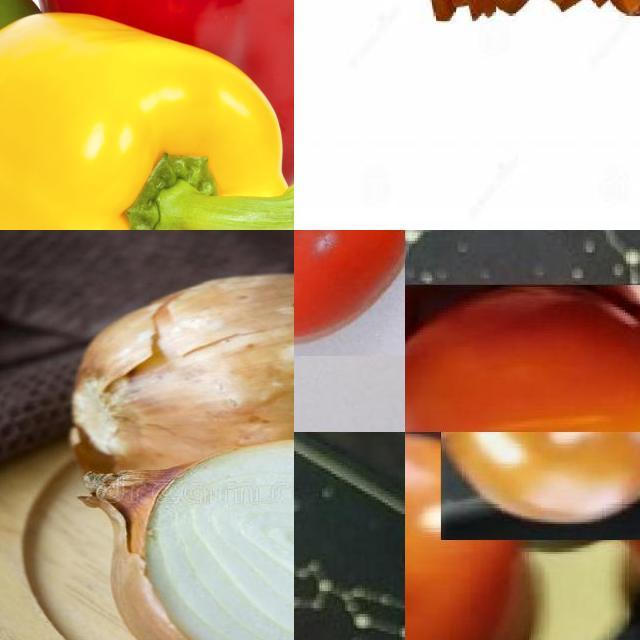bell_pepper: (1, 12, 295, 231), (30, 1, 295, 209)
onion: (58, 267, 295, 513), (101, 442, 295, 640)
tomato: (406, 433, 536, 640), (441, 433, 640, 541), (295, 231, 406, 357)
